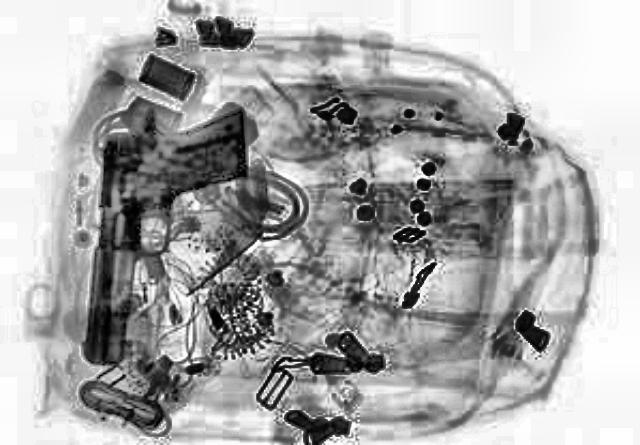Gun: (78, 101, 250, 365)
